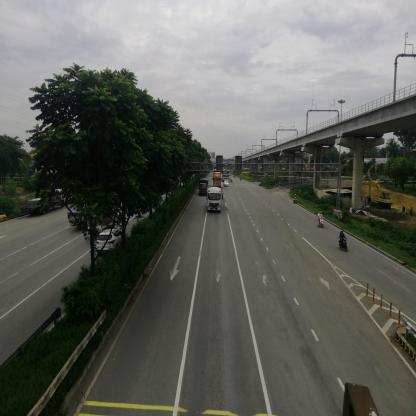car: (98, 227, 125, 255), (226, 181, 230, 187)
container: (214, 173, 221, 186)
motorbike: (339, 230, 349, 254), (319, 213, 325, 229)
truck: (19, 192, 63, 219), (208, 188, 223, 213), (199, 178, 208, 198)
